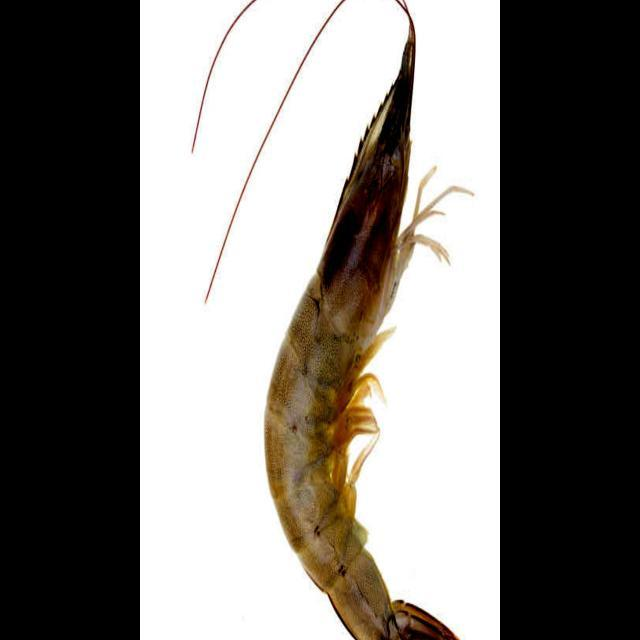shrimp: (265, 25, 459, 640)
